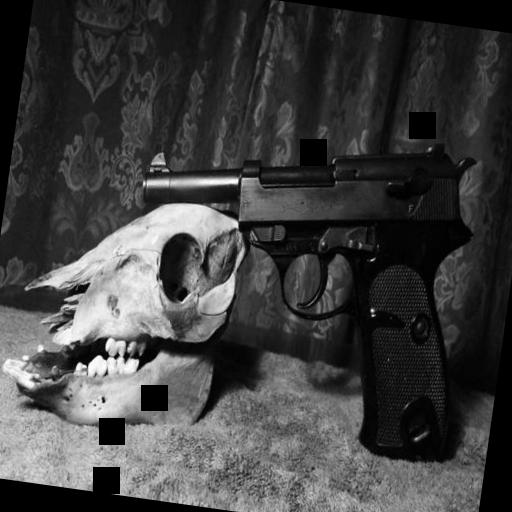Handgun: (108, 103, 493, 466)
